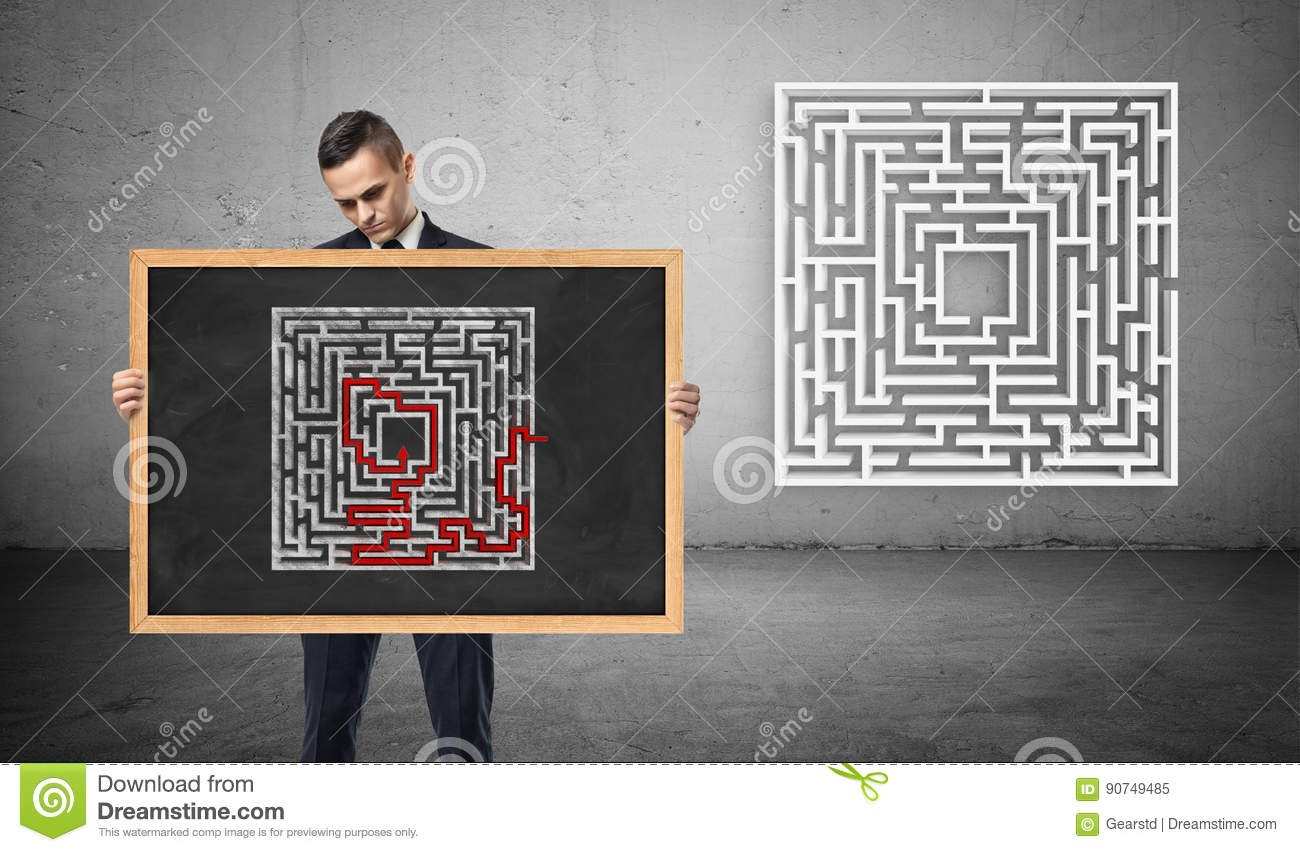maze: (774, 82, 1179, 487), (271, 307, 534, 570)
